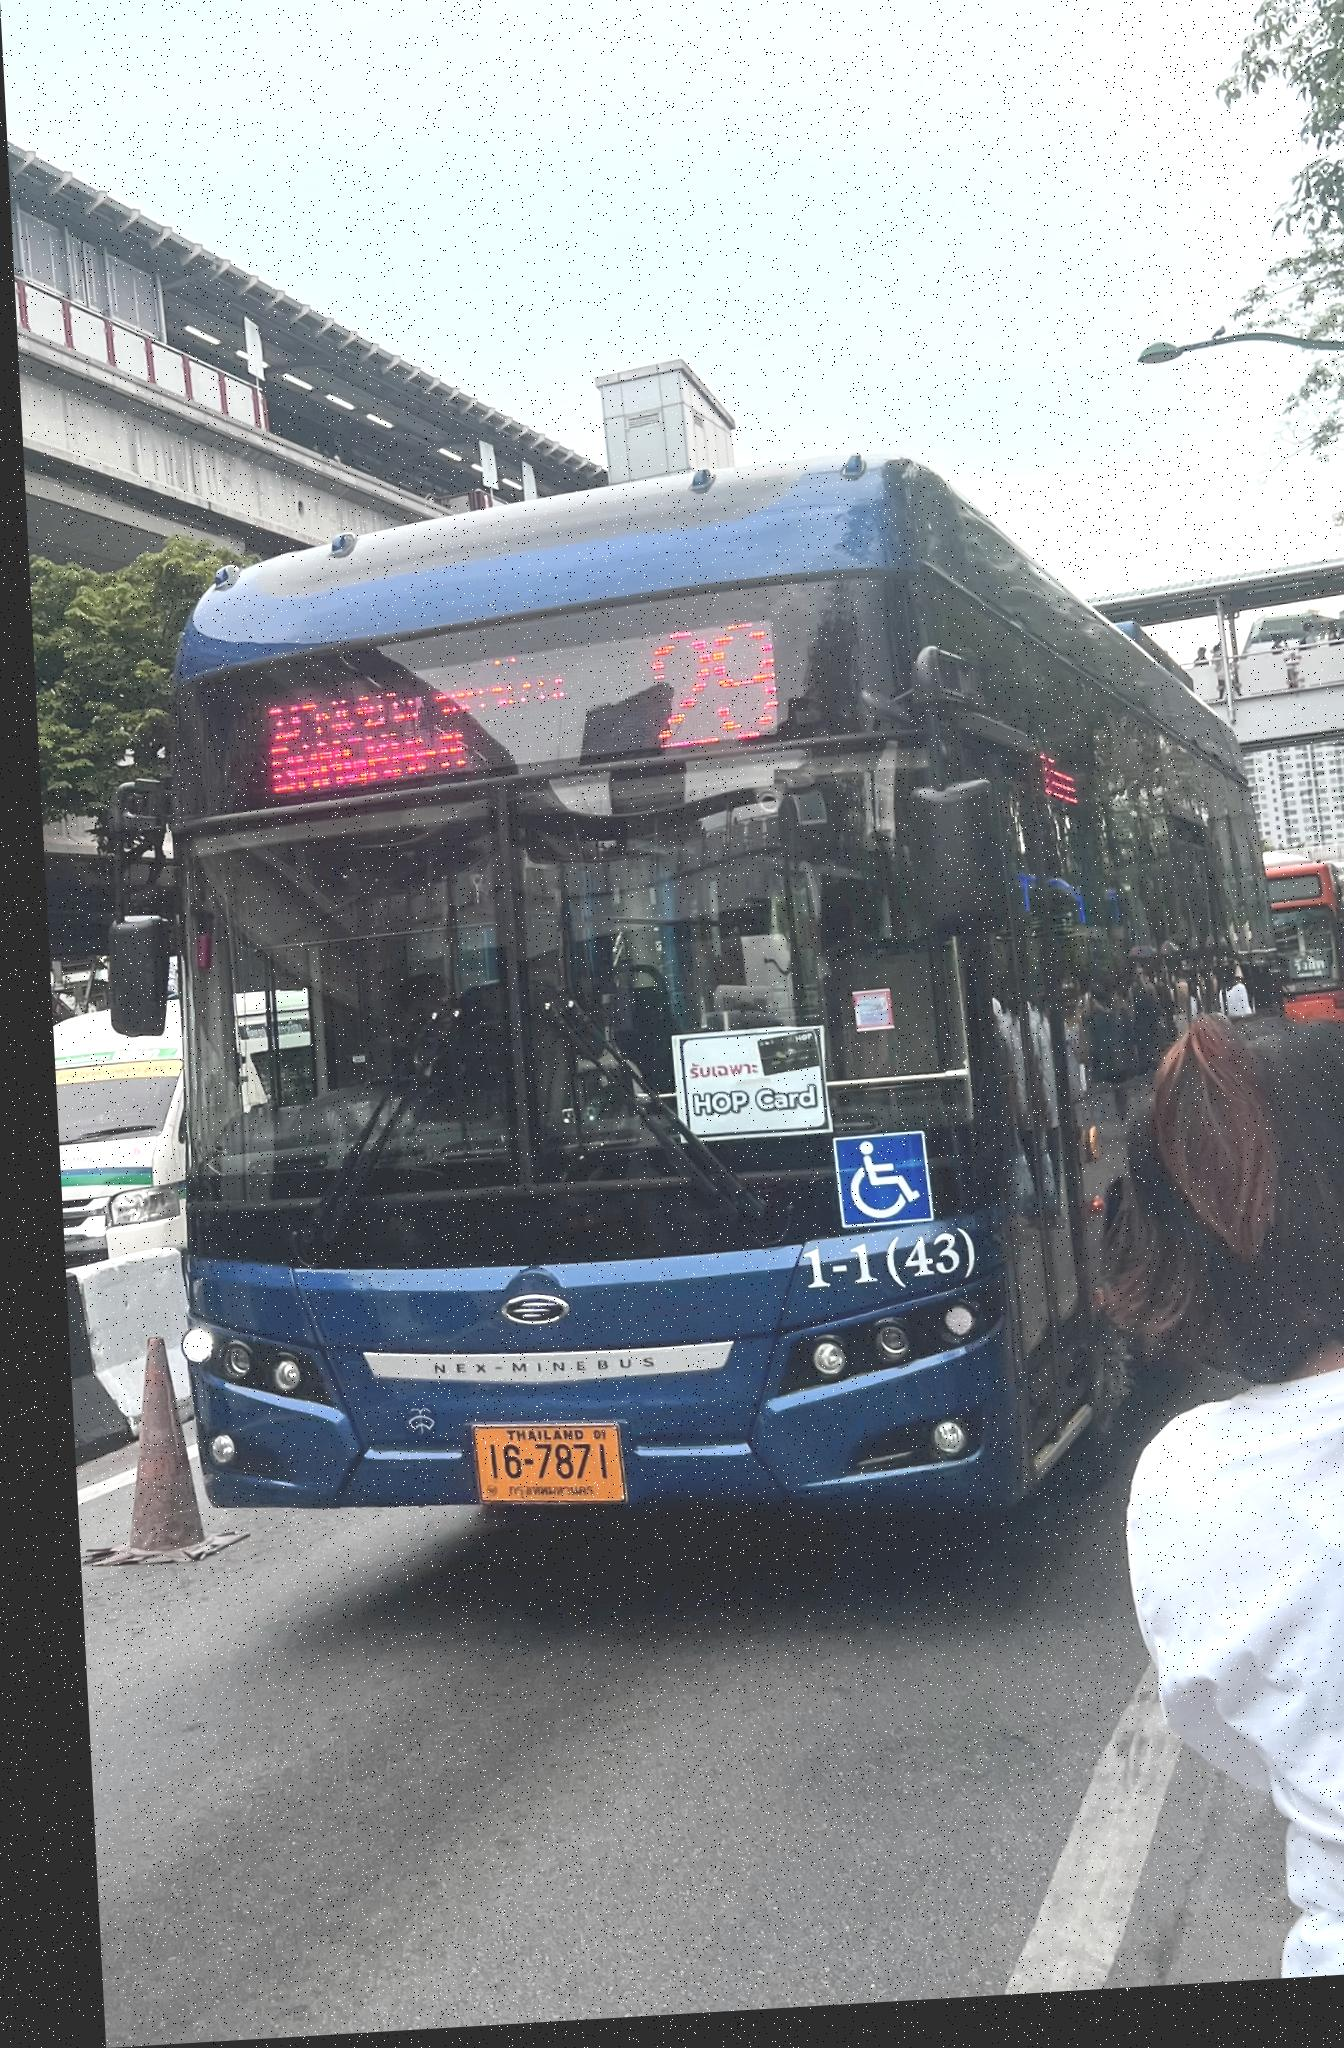BMTA-bus: (1254, 862, 1344, 1040)
Bus Line Number: (625, 613, 787, 766)
Bus Side Number: (774, 1235, 970, 1307)
Destination Sign: (237, 660, 574, 811)
TSB-Bus: (156, 471, 1264, 1532)
